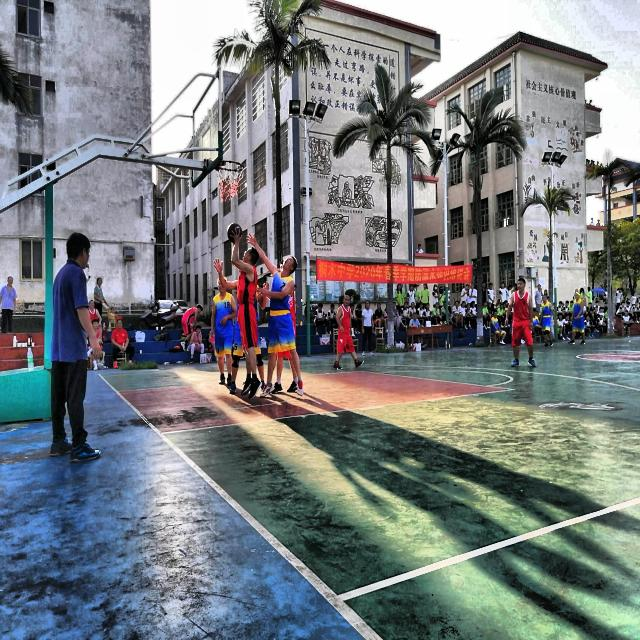rim: (217, 161, 245, 200)
